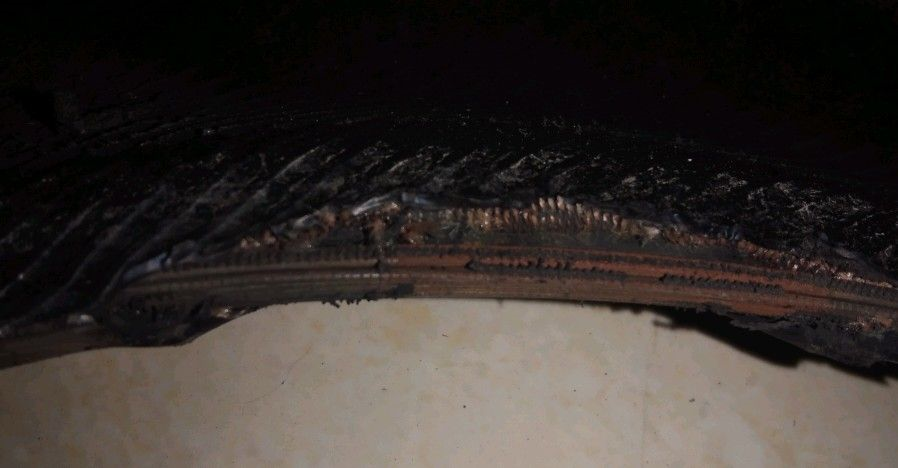bead_damage: (96, 155, 897, 382)
